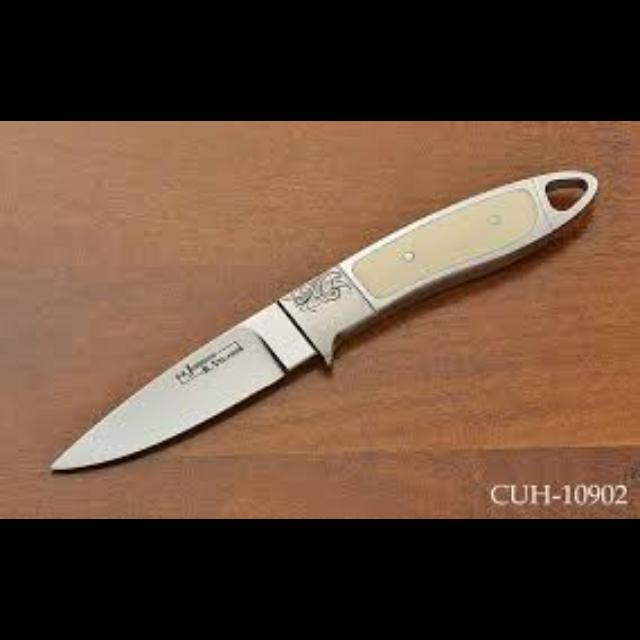knife: (48, 166, 596, 472)
